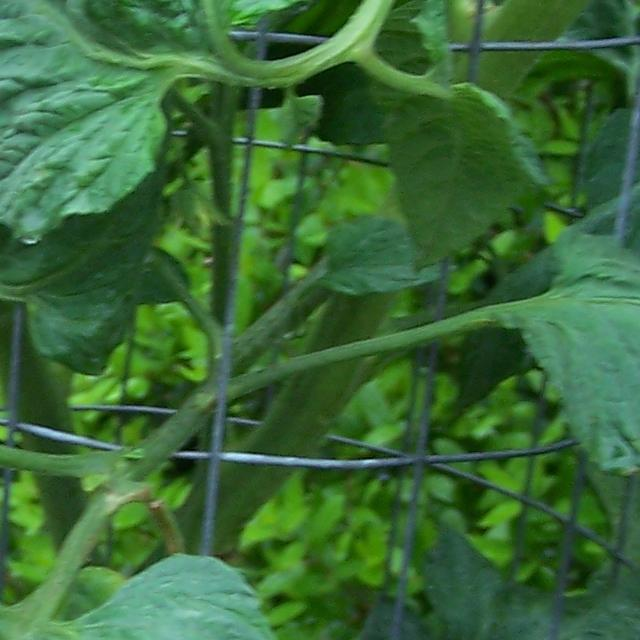Tomato leaf: (0, 0, 191, 209), (541, 270, 640, 559), (0, 547, 233, 640)
